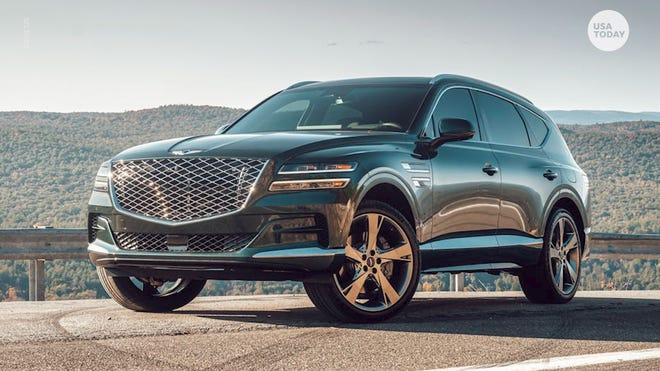car: (80, 70, 594, 321)
